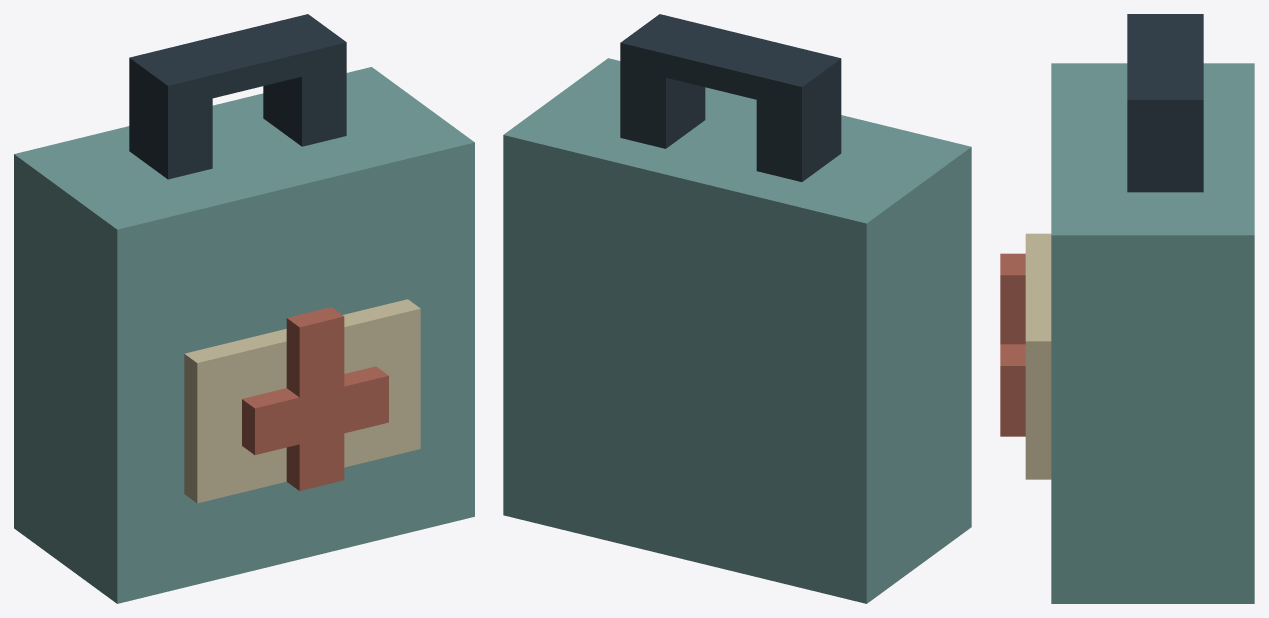
The model's file is health-05.glb.
3 renders of one model, left to right at view 1: azimuth 30°, elevation 25°; view 2: azimuth 150°, elevation 25°; view 3: azimuth 270°, elevation 25°, orthographic. The views are drawn at different scales.
Parts seen in each view (by area): view 1: First aid kit; view 2: First aid kit; view 3: First aid kit.
Boxes of the visible parts, <box> form: First aid kit: <box>14,14,474,603</box>; First aid kit: <box>503,14,971,603</box>; First aid kit: <box>1000,14,1254,603</box>.
Size of the model in its own units: 1.28 by 1.6 by 0.8.
